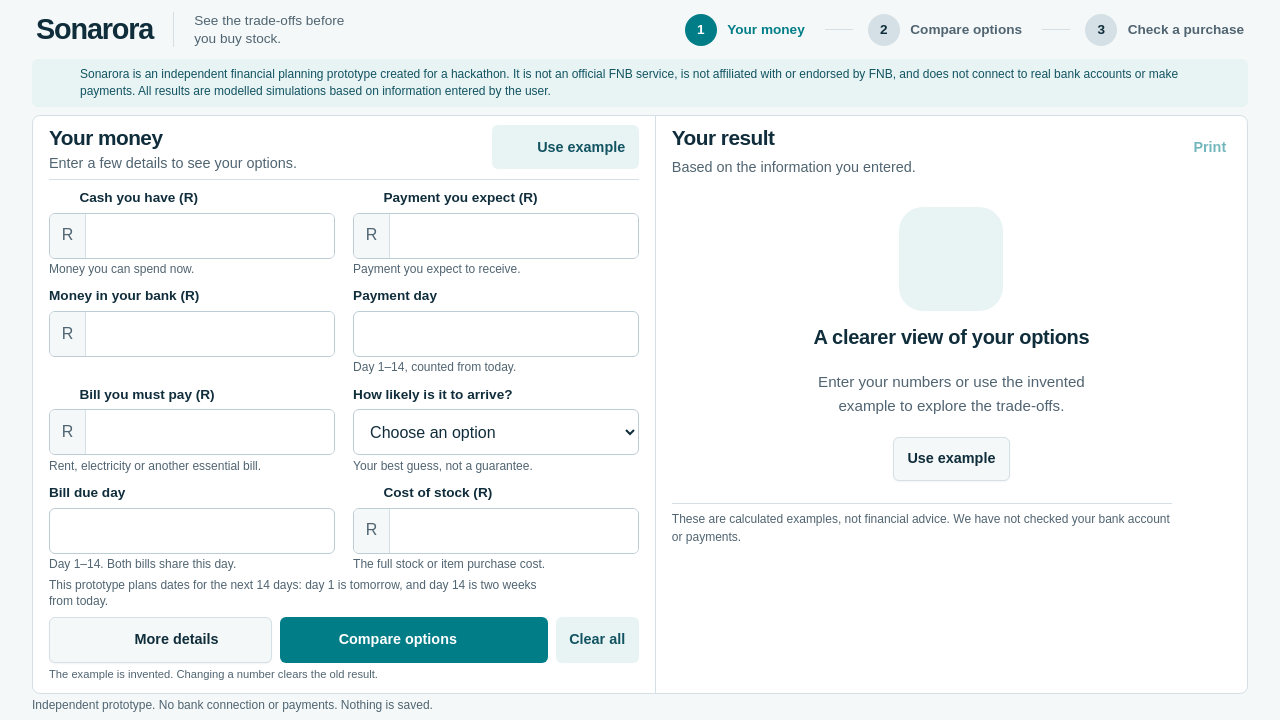
Test: redesigned decision flow › invalidates the current result immediately when a probability preset changes
Click the button "Use example" in the row of "Enter a few details to see your options.": (565, 148) [492,126,639,170]
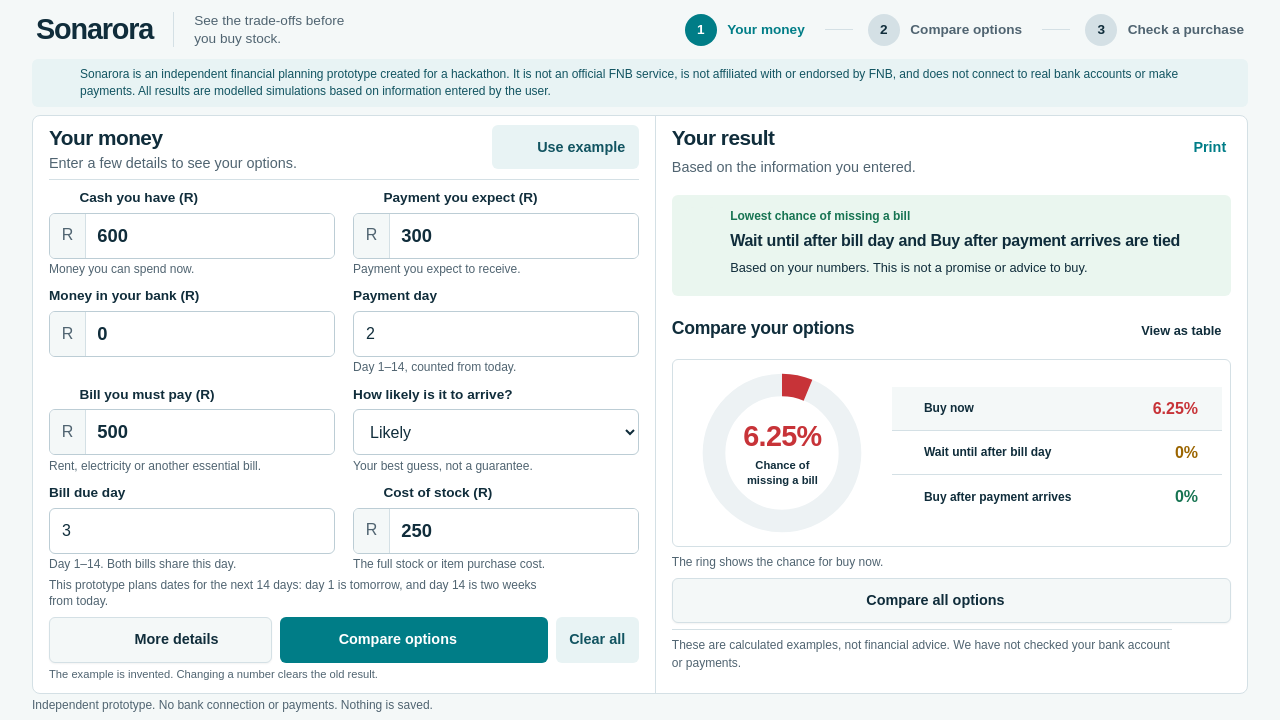
Expected: the element with class "result-highlight" is shown, [672,195,1231,296]
Select "Unlikely" in the dropdown with id "receiptProbability": (496, 432) [353,410,639,456]
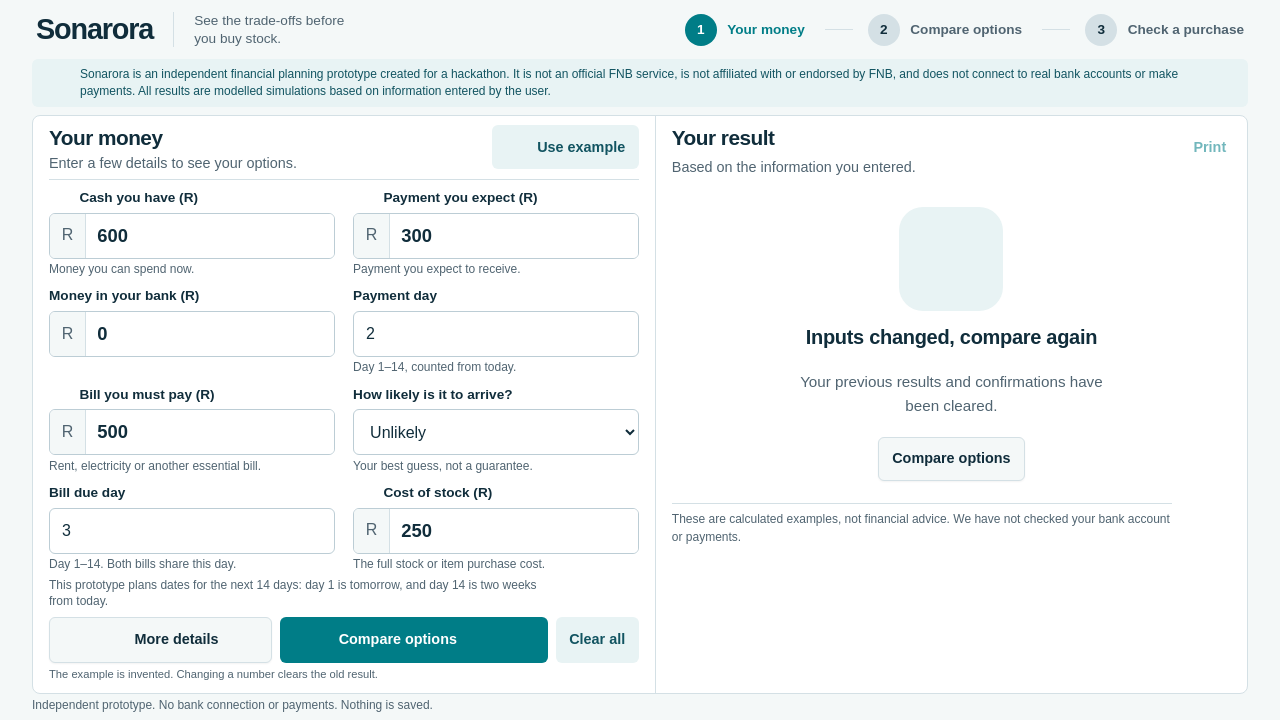
Expected: the element with class "result-highlight" is gone
Expected: the text "Inputs changed, compare again" is shown, [806,324,1097,351]
